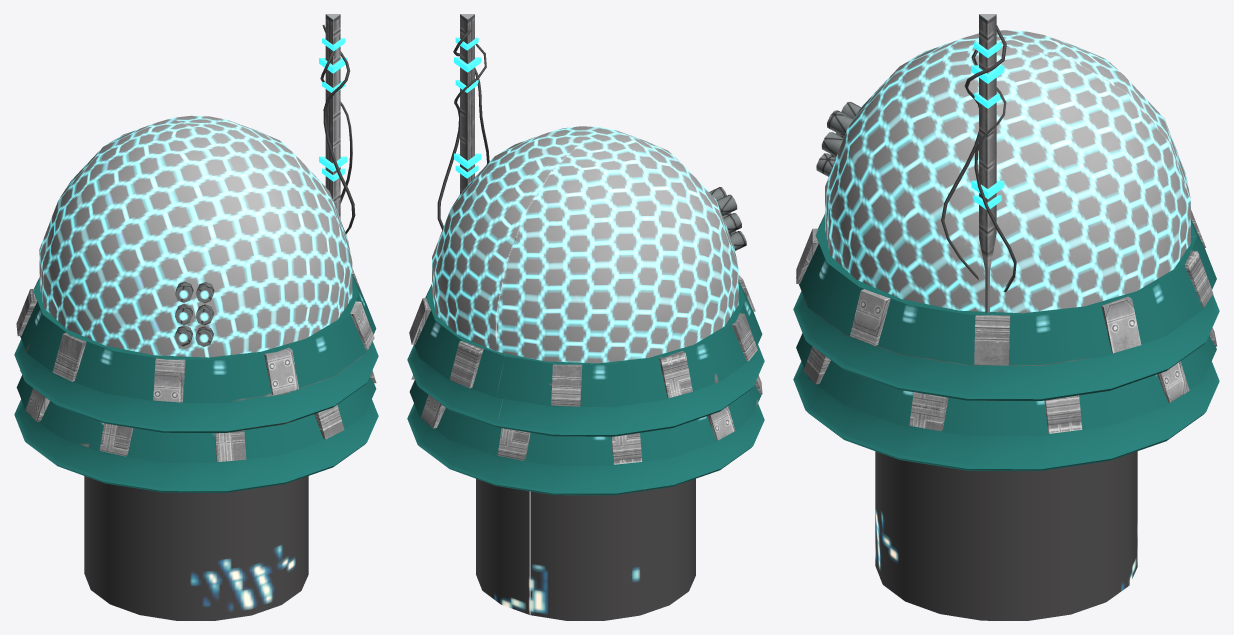
The model's file is PumpPBR_David3.gltf.
3 renders of one model, left to right at view 1: azimuth 30°, elevation 25°; view 2: azimuth 150°, elevation 25°; view 3: azimuth 270°, elevation 25°, orthographic. The views are drawn at different scales.
Visible parts, largest first — view 1: WaterPump; view 2: WaterPump; view 3: WaterPump.
Boxes of the visible parts, bbox=[...] form: WaterPump: bbox=[14, 14, 378, 620]; WaterPump: bbox=[407, 14, 764, 620]; WaterPump: bbox=[793, 14, 1219, 620].
Size of the model in its own units: 88.16 by 144 by 89.18.
Materials: 1 (1 with a texture image).
